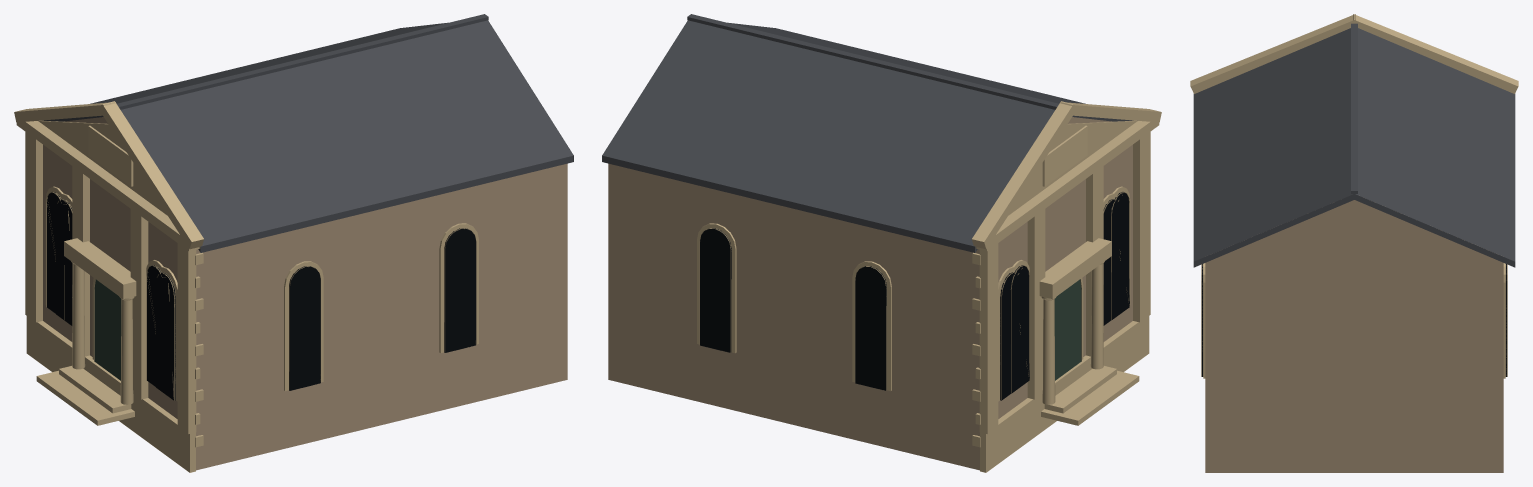
File: context.church.cots_baptist.glb
The picture shows the model from 3 angles, left to right: view 1: azimuth 30°, elevation 25°; view 2: azimuth 150°, elevation 25°; view 3: azimuth 270°, elevation 25°; orthographic projection. The views are drawn at different scales.
Visible parts, largest first — view 1: main__stone_a97, main__clad_455, main__stone_ca8, main__glass_dark, main__timber_344, main__stone_cb8, main__stone_986; view 2: main__stone_a97, main__clad_455, main__stone_ca8, main__glass_dark, main__timber_344, main__stone_986, main__stone_cb8; view 3: main__stone_a97, main__clad_455, main__stone_ca8, main__stone_986.
Part boxes in pixels (box(x1,y1,x2,y2)): main__stone_a97: box(43, 117, 567, 470); main__clad_455: box(42, 14, 573, 252); main__stone_ca8: box(14, 101, 478, 472); main__glass_dark: box(47, 192, 476, 400); main__timber_344: box(94, 279, 121, 380); main__stone_cb8: box(88, 125, 133, 186); main__stone_986: box(46, 192, 476, 400); main__stone_a97: box(608, 117, 1132, 470); main__clad_455: box(602, 14, 1133, 252); main__stone_ca8: box(697, 101, 1161, 472); main__glass_dark: box(700, 192, 1129, 400); main__timber_344: box(1054, 279, 1081, 380); main__stone_986: box(699, 192, 1129, 400); main__stone_cb8: box(1042, 125, 1087, 186); main__stone_a97: box(1205, 200, 1503, 472); main__clad_455: box(1193, 23, 1515, 267); main__stone_ca8: box(1190, 14, 1518, 378); main__stone_986: box(1201, 264, 1507, 376).
Bounding box in the file's own units: 13.5 × 9.53 × 9.91.
